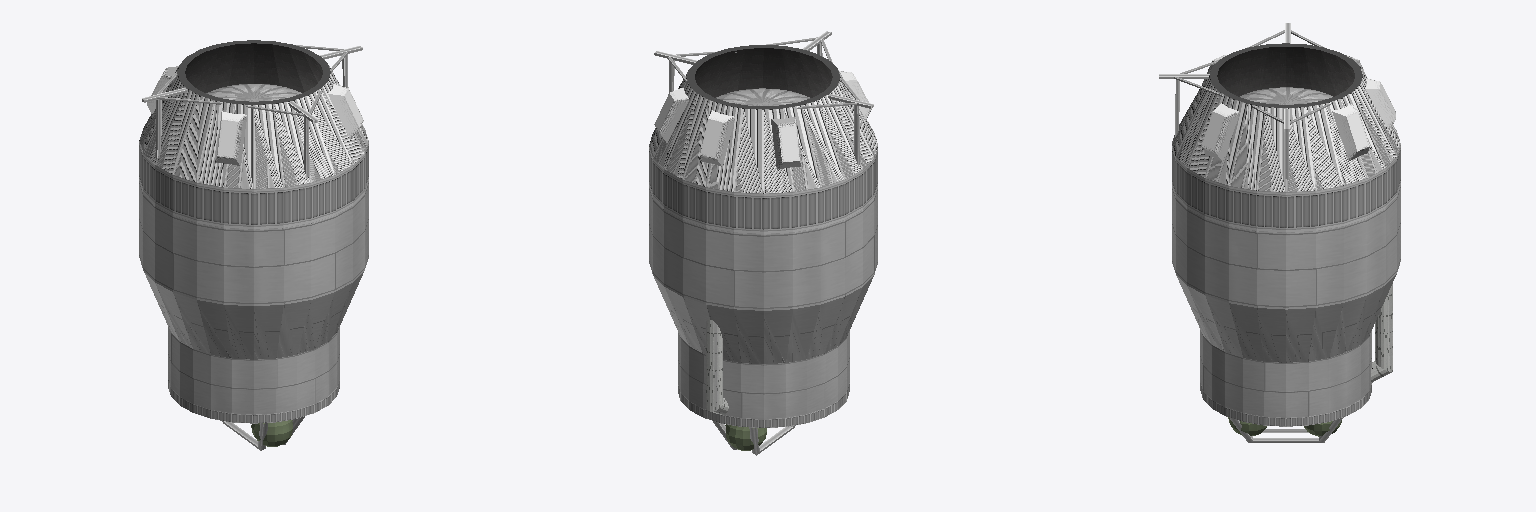
The picture shows the model from 3 angles: view 1: azimuth 30°, elevation 25°; view 2: azimuth 150°, elevation 25°; view 3: azimuth 270°, elevation 25°; orthographic projection.
Visible parts, largest first — view 1: Cylinder2; view 2: Cylinder2; view 3: Cylinder2.
Part boxes in pixels (bbox=[...]): Cylinder2: bbox=[139, 40, 368, 450]; Cylinder2: bbox=[649, 31, 877, 455]; Cylinder2: bbox=[1159, 23, 1400, 442].
Size of the model in its own units: 4.39 by 6.96 by 4.22.
2 materials, 1 textured.